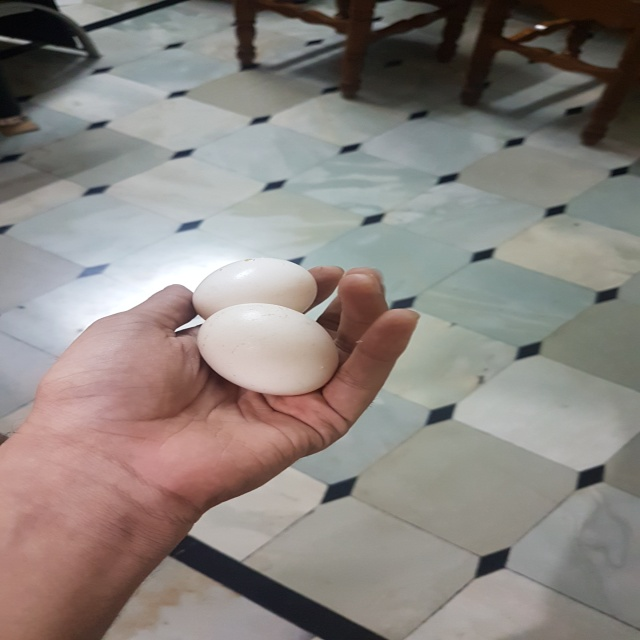eggs: (196, 301, 342, 400), (193, 256, 322, 324)
